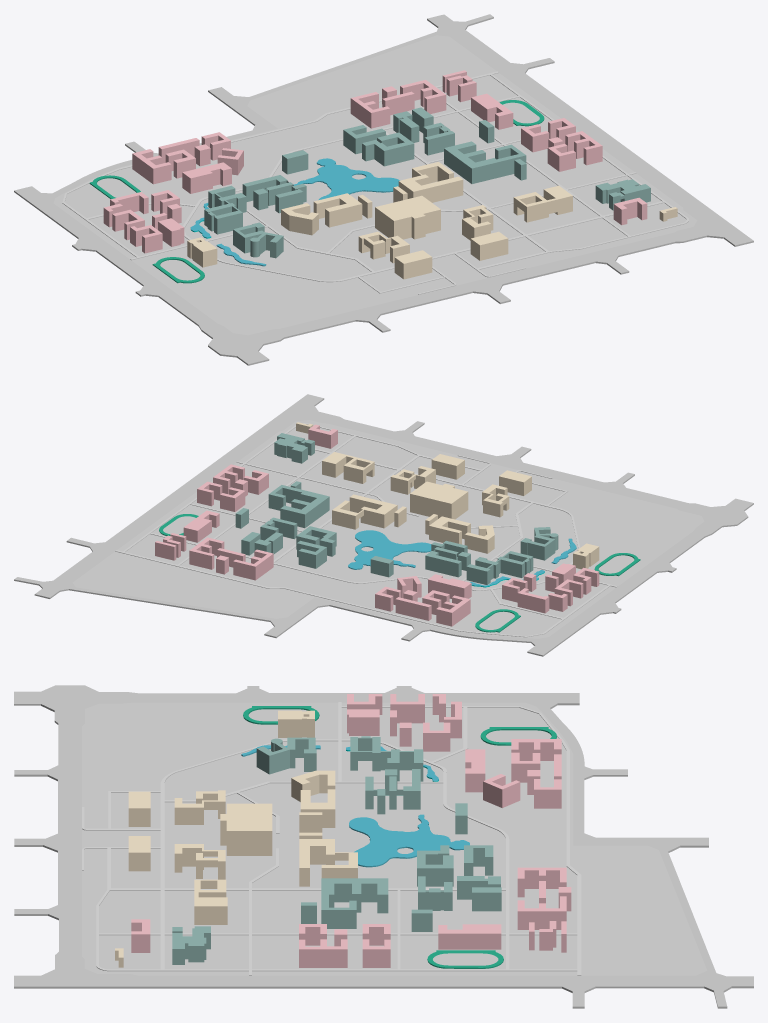
File: hbu.gltf
The picture shows the model from 3 angles, top to bottom: view 1: azimuth 30°, elevation 25°; view 2: azimuth 150°, elevation 25°; view 3: azimuth 270°, elevation 25°; orthographic projection. The views are drawn at different scales.
Parts seen in each view (by area): view 1: Mesh62 Group37 Model, Mesh61 Group36 Model, Mesh34 Group22 Group1 Model, Mesh46 Group27 Group1 Model, Mesh63 Group38 Model, Mesh2 Group3 Group1 Model, Mesh31 Group19 Group1 Model, Mesh48 Group29 Group1 Model, Mesh28 Group16 Group1 Model, Mesh18 Group12 Group1 Model, Mesh30 Group18 Group1 Model, Mesh16 Group11 Group1 Model (+23 smaller); view 2: Mesh62 Group37 Model, Mesh61 Group36 Model, Mesh46 Group27 Group1 Model, Mesh34 Group22 Group1 Model, Mesh2 Group3 Group1 Model, Mesh63 Group38 Model, Mesh48 Group29 Group1 Model, Mesh31 Group19 Group1 Model, Mesh28 Group16 Group1 Model, Mesh30 Group18 Group1 Model, Mesh32 Group20 Group1 Model, Mesh16 Group11 Group1 Model (+24 smaller); view 3: Mesh62 Group37 Model, Mesh61 Group36 Model, Mesh63 Group38 Model, Mesh46 Group27 Group1 Model, Mesh34 Group22 Group1 Model, Mesh2 Group3 Group1 Model, Mesh48 Group29 Group1 Model, Mesh30 Group18 Group1 Model, Mesh31 Group19 Group1 Model, Mesh60 Group1 Model, Mesh28 Group16 Group1 Model, Mesh12 Group8 Group1 Model (+28 smaller).
Part boxes in pixels (<box>): Mesh62 Group37 Model: <box>14,14,753,365</box>; Mesh61 Group36 Model: <box>62,71,688,294</box>; Mesh34 Group22 Group1 Model: <box>375,195,440,239</box>; Mesh46 Group27 Group1 Model: <box>444,141,526,183</box>; Mesh63 Group38 Model: <box>293,158,399,199</box>; Mesh2 Group3 Group1 Model: <box>398,162,463,202</box>; Mesh31 Group19 Group1 Model: <box>242,175,306,213</box>; Mesh48 Group29 Group1 Model: <box>204,185,246,234</box>; Mesh28 Group16 Group1 Model: <box>513,185,572,222</box>; Mesh18 Group12 Group1 Model: <box>362,132,414,166</box>; Mesh30 Group18 Group1 Model: <box>233,222,283,258</box>; Mesh16 Group11 Group1 Model: <box>313,193,362,227</box>; Mesh62 Group37 Model: <box>14,394,753,656</box>; Mesh61 Group36 Model: <box>115,423,617,637</box>; Mesh46 Group27 Group1 Model: <box>268,485,329,528</box>; Mesh34 Group22 Group1 Model: <box>410,481,468,519</box>; Mesh2 Group3 Group1 Model: <box>332,494,397,529</box>; Mesh63 Group38 Model: <box>348,530,431,569</box>; Mesh48 Group29 Group1 Model: <box>466,551,533,584</box>; Mesh31 Group19 Group1 Model: <box>425,540,470,577</box>; Mesh28 Group16 Group1 Model: <box>322,452,374,483</box>; Mesh30 Group18 Group1 Model: <box>520,527,558,560</box>; Mesh32 Group20 Group1 Model: <box>274,433,314,463</box>; Mesh16 Group11 Group1 Model: <box>429,516,470,544</box>; Mesh62 Group37 Model: <box>14,685,753,1008</box>; Mesh61 Group36 Model: <box>82,702,581,975</box>; Mesh63 Group38 Model: <box>349,814,469,867</box>; Mesh46 Group27 Group1 Model: <box>321,878,388,928</box>; Mesh34 Group22 Group1 Model: <box>220,803,272,855</box>; Mesh2 Group3 Group1 Model: <box>299,839,357,886</box>; Mesh48 Group29 Group1 Model: <box>350,736,423,781</box>; Mesh30 Group18 Group1 Model: <box>256,737,316,774</box>; Mesh31 Group19 Group1 Model: <box>365,769,420,814</box>; Mesh60 Group1 Model: <box>438,924,501,949</box>; Mesh28 Group16 Group1 Model: <box>194,879,227,924</box>; Mesh12 Group8 Group1 Model: <box>174,844,225,879</box>.
Size of the model in its own units: 111 by 4.3 by 108.
